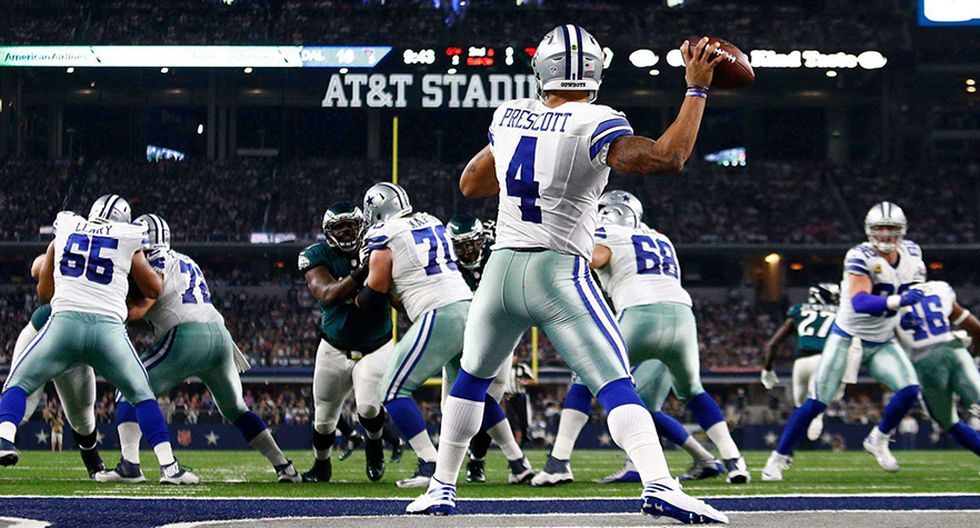futbol americano: (683, 37, 755, 90)
